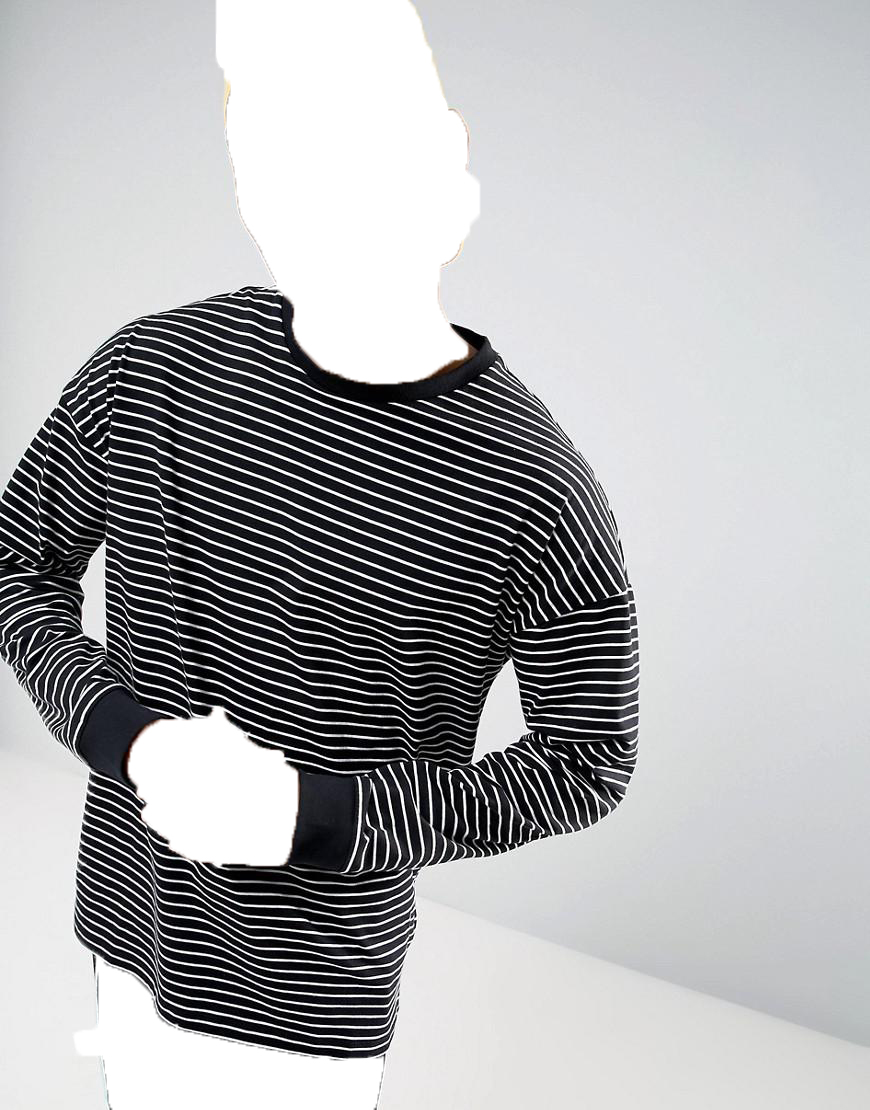teeshirt: (1, 279, 654, 1076)
